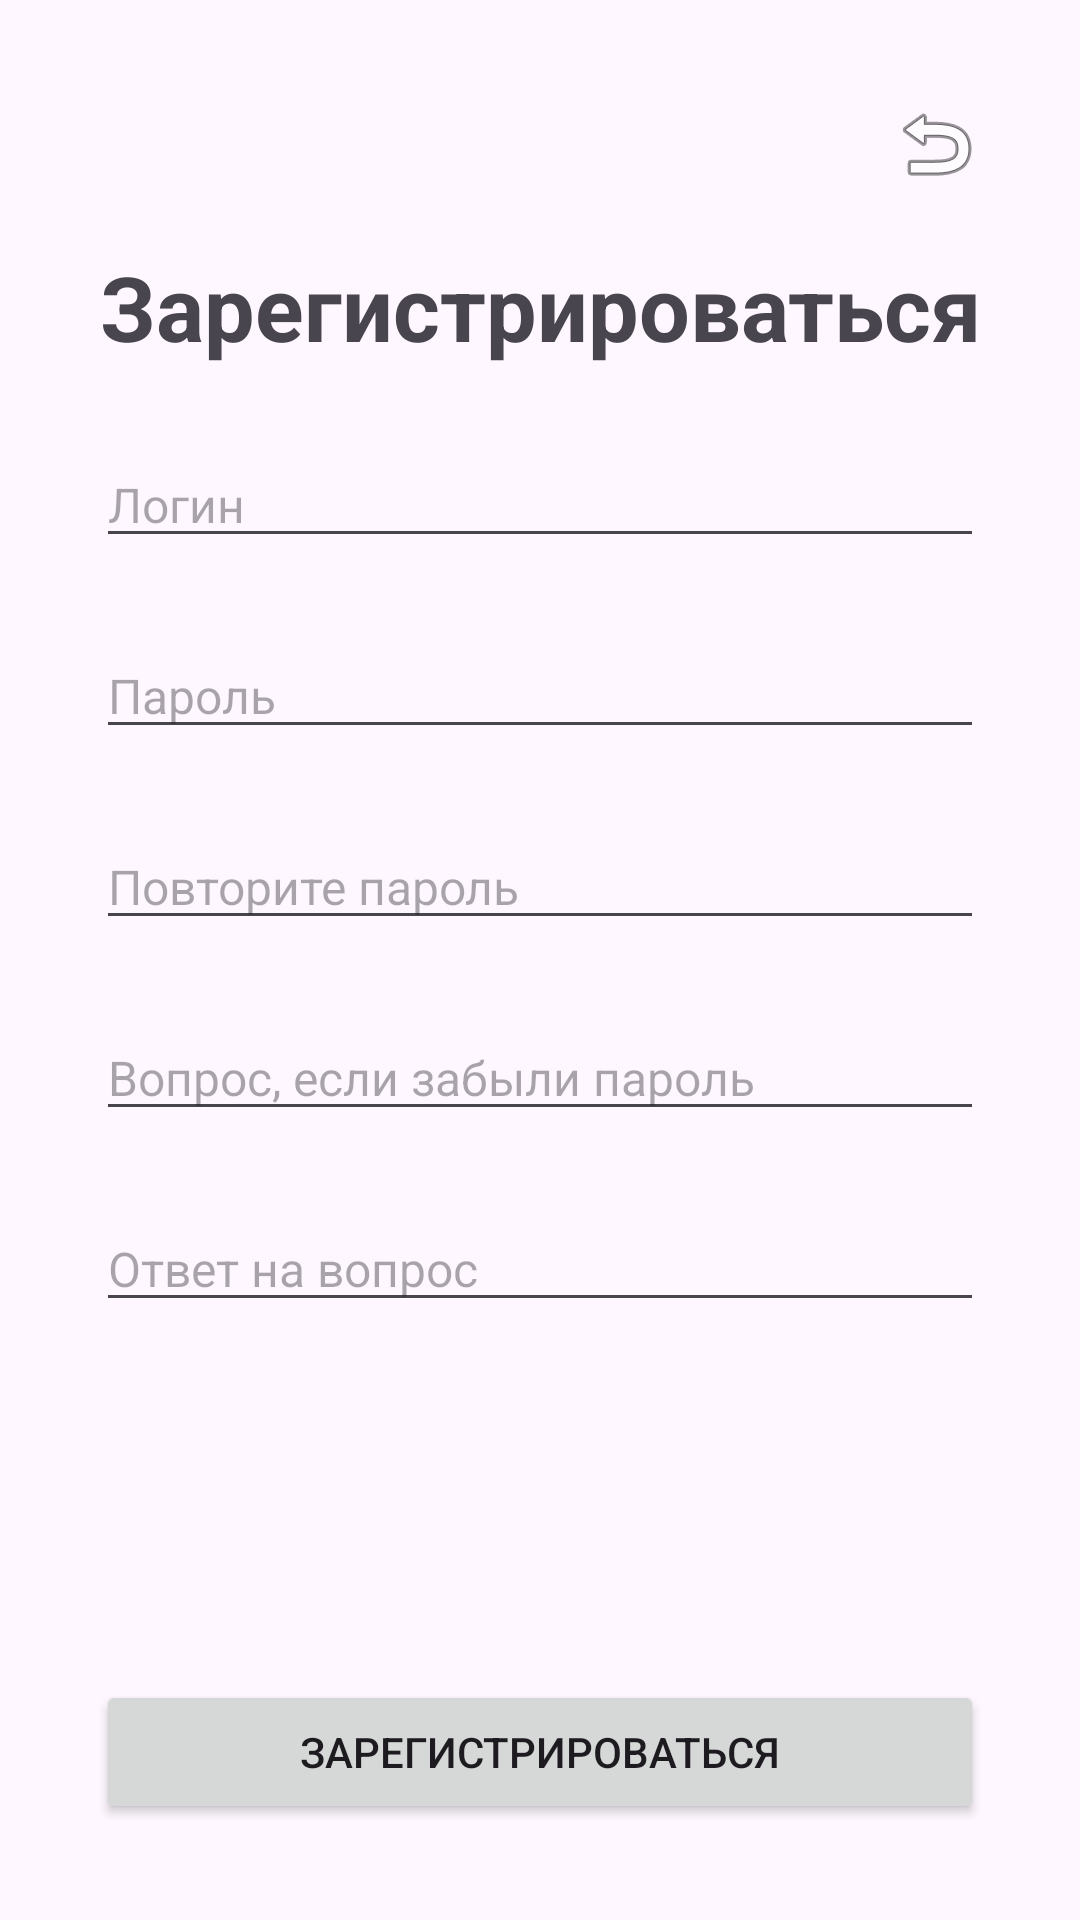

Where icons sit on this 1080x1920 app screen, as {"x1": x1, "y1": y1, "x2": x2, "y2": y2}:
revert: {"x1": 903, "y1": 113, "x2": 972, "y2": 176}
